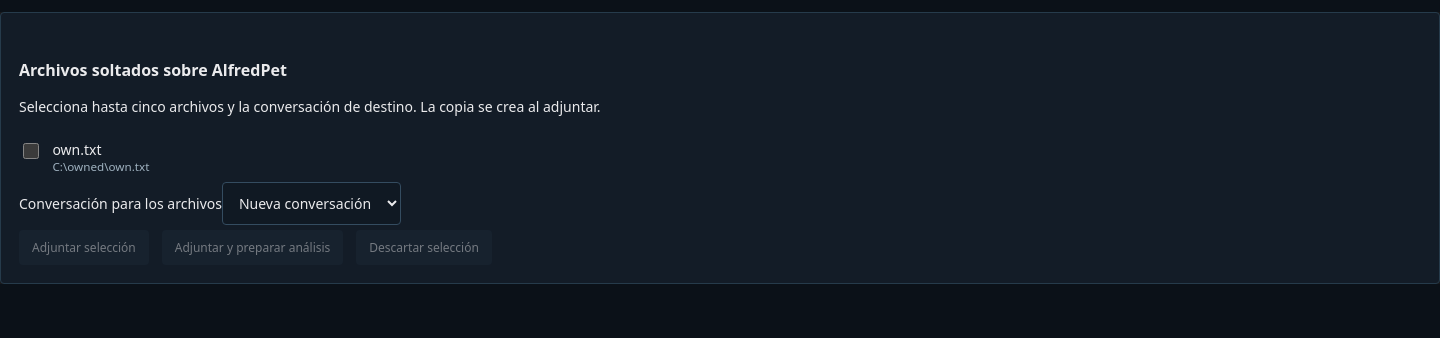
Test case: new native events refresh the queue and dismiss only selected file identifiers
Click the checkbox.
click(31, 151)  # box left=23, top=143, right=39, bottom=159
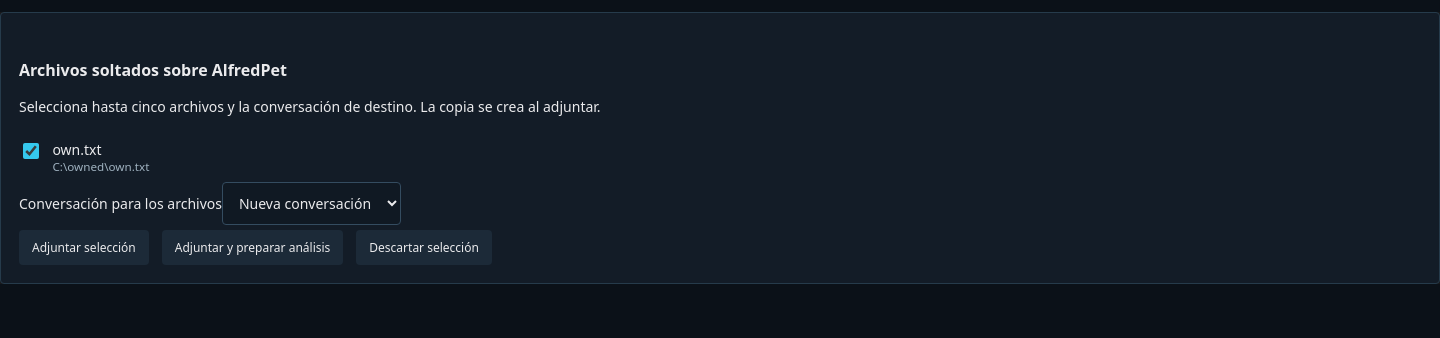
Click the button "Descartar selección".
click(424, 248)  # box left=356, top=230, right=492, bottom=265
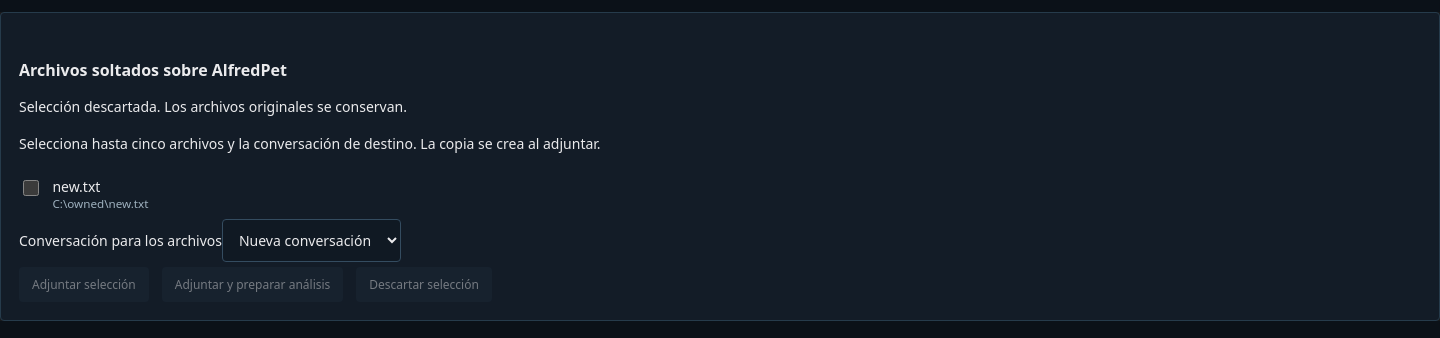
Check: the message shows "originales se conservan", box left=19, top=97, right=407, bottom=116
Check: the checkbox is not checked, box left=23, top=180, right=39, bottom=196
Check: the text "new.txt" is shown, box left=52, top=177, right=100, bottom=196
